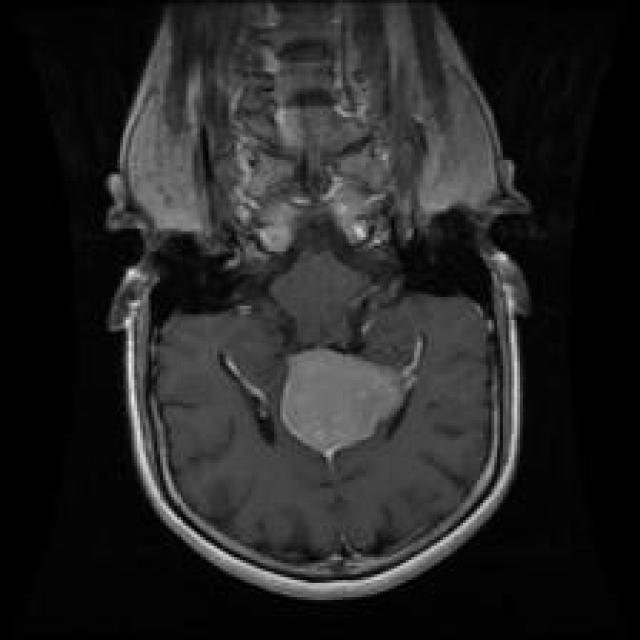meningioma_tumor: (262, 335, 432, 458)
